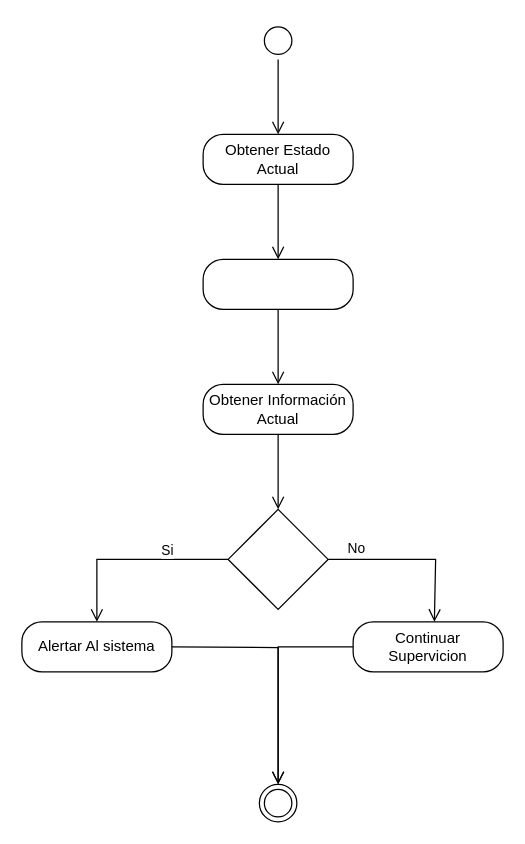
Image size: 525x844. Some labels were removed from this diagram. The shapes that lost their labels are listed below. From the top down, each one's centre as x and y in pixels, then its label:
At point (277, 283): "Mostrar información Actual del Estado".
At point (277, 558): "Falla Detectada".
